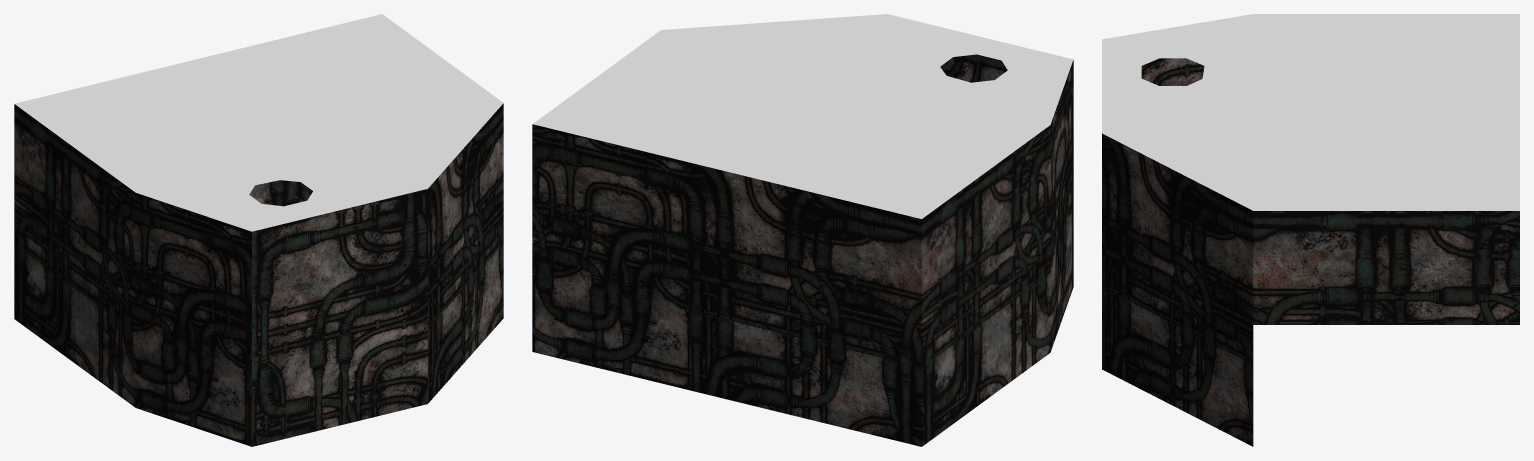
File: BigRoom1.fbx
The picture shows the model from 3 angles, left to right: view 1: azimuth 30°, elevation 25°; view 2: azimuth 150°, elevation 25°; view 3: azimuth 270°, elevation 25°; orthographic projection. The views are drawn at different scales.
Parts seen in each view (by area): view 1: Plane.373; view 2: Plane.373; view 3: Plane.373.
Boxes of the visible parts, x1,y1,x2,y2 form: Plane.373: [14, 14, 503, 446]; Plane.373: [532, 14, 1073, 446]; Plane.373: [1102, 14, 1519, 446].
Size of the model in its own units: 202310 by 113080 by 181464.
